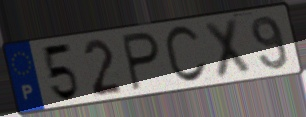2: (82, 37, 128, 100)
5: (37, 42, 81, 103)
9: (248, 13, 291, 72)
C: (162, 23, 210, 86)
P: (119, 30, 162, 94)
X: (201, 16, 254, 81)
